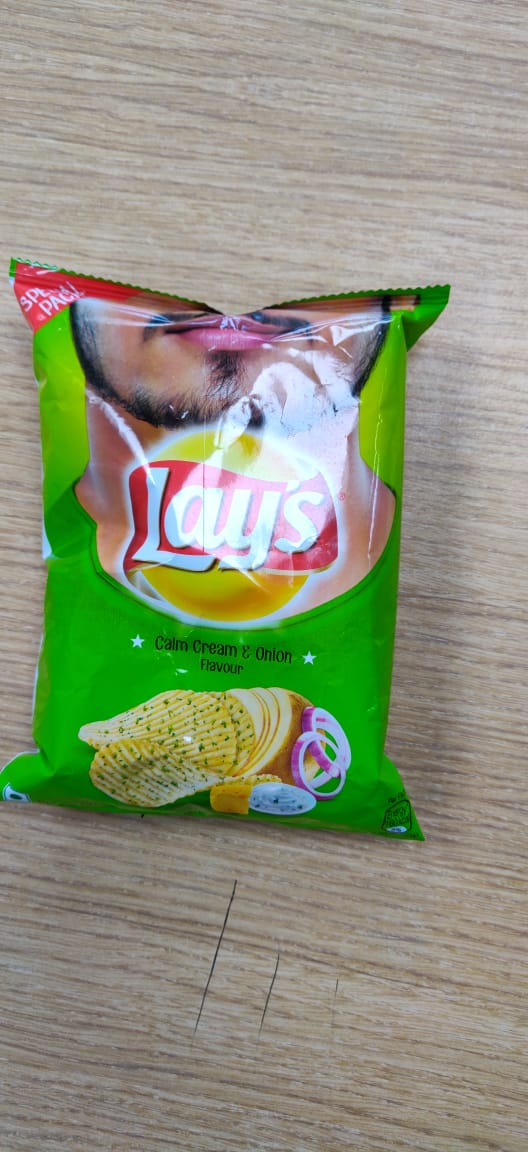lays chips: (3, 237, 464, 900)
